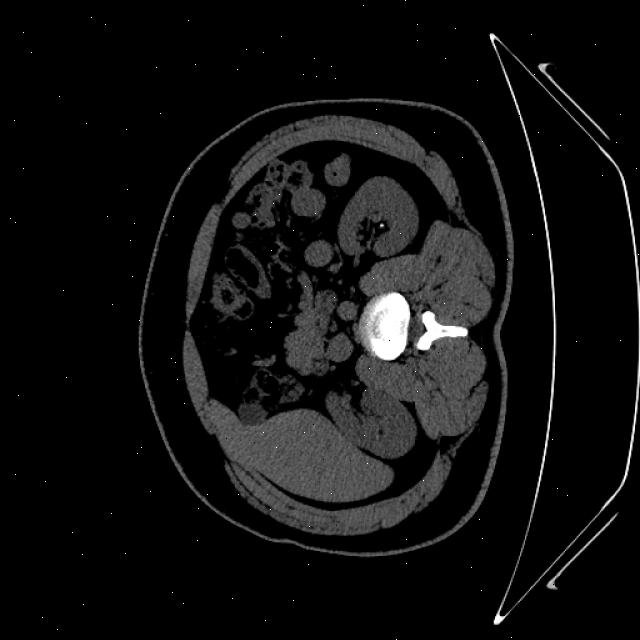kidneystone: (379, 219, 387, 230)
